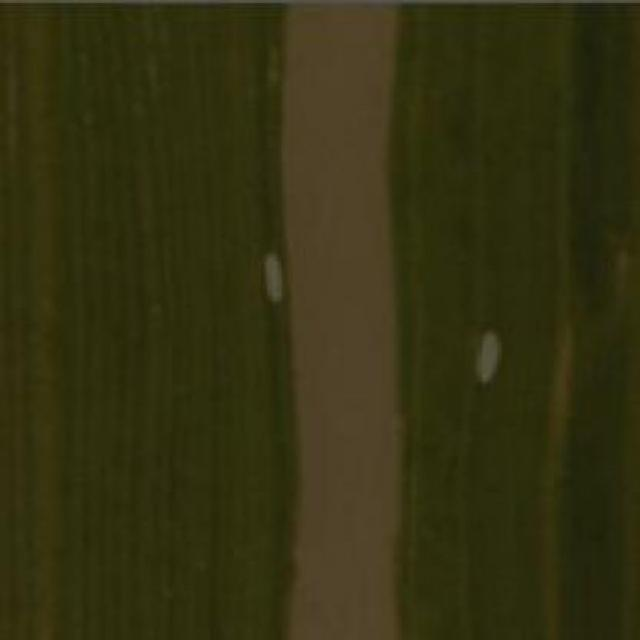whorl-maggot: (468, 317, 506, 389), (262, 248, 289, 308)
